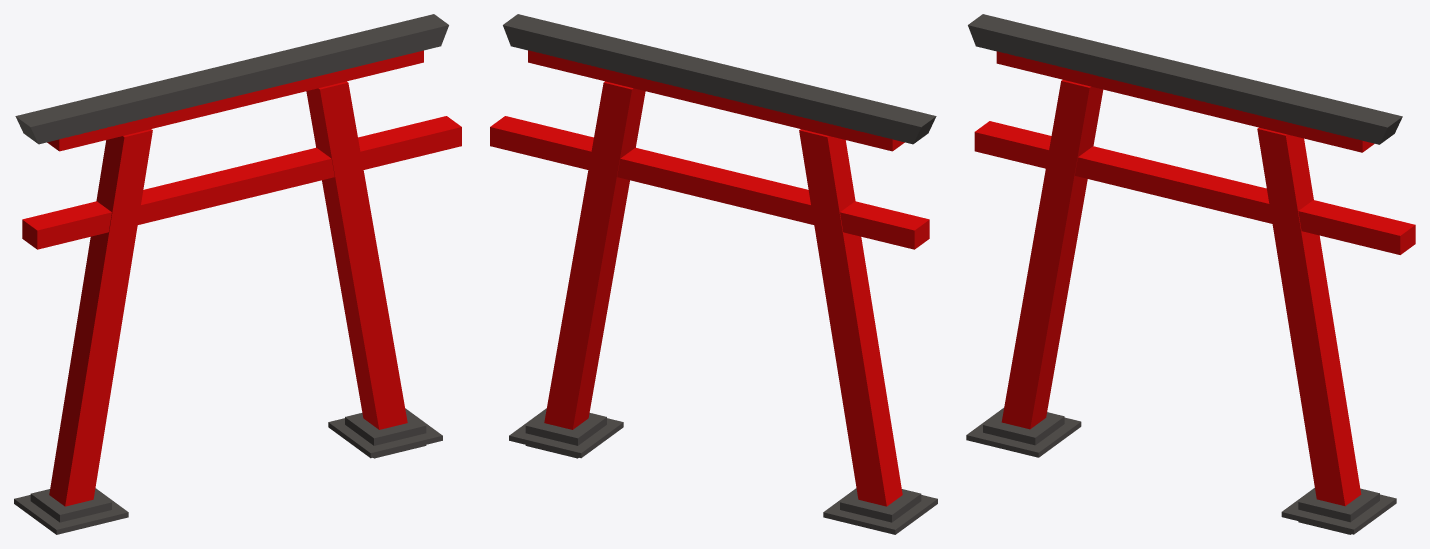
File: gate_2.fbx
The picture shows the model from 3 angles, left to right: view 1: azimuth 30°, elevation 25°; view 2: azimuth 150°, elevation 25°; view 3: azimuth 330°, elevation 25°; orthographic projection.
Visible parts, largest first — view 1: pCube9; view 2: pCube9; view 3: pCube9.
Boxes of the visible parts, box(x1,y1,x2,y2) form: pCube9: box(14, 14, 461, 534); pCube9: box(490, 14, 937, 534); pCube9: box(966, 14, 1415, 534).
Bounding box in the file's own units: 10.63 × 9.61 × 1.81.
